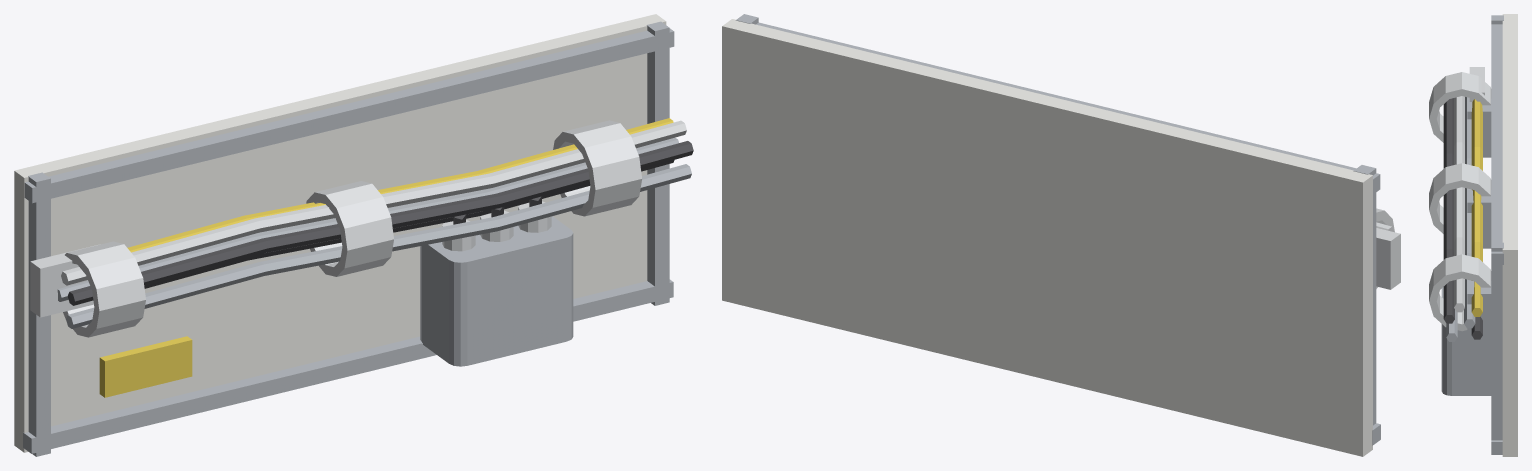
The model's file is orbital-station-and-docking-bays-cable-bundle-run-310fa0f5__24579.glb.
The picture shows the model from 3 angles, left to right: view 1: azimuth 30°, elevation 25°; view 2: azimuth 150°, elevation 25°; view 3: azimuth 270°, elevation 25°; orthographic projection. The views are drawn at different scales.
Parts seen in each view (by area): view 1: cable-bundle-run; view 2: cable-bundle-run; view 3: cable-bundle-run.
Boxes of the visible parts, x1,y1,x2,y2 form: cable-bundle-run: (14,14,693,456); cable-bundle-run: (722,14,1400,456); cable-bundle-run: (1429,14,1517,456).
Bounding box in the file's own units: 2.22 × 0.9012 × 0.35.
